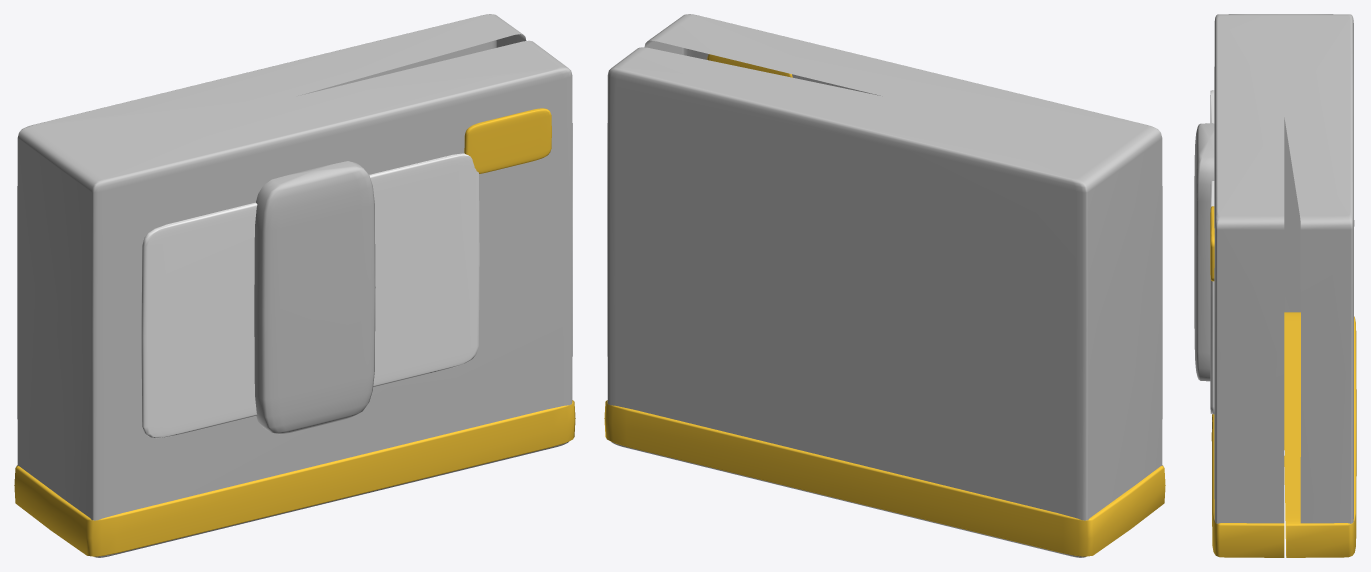
Rendered from console_box.fbx.
3 renders of one model, left to right at view 1: azimuth 30°, elevation 25°; view 2: azimuth 150°, elevation 25°; view 3: azimuth 270°, elevation 25°, orthographic. The views are drawn at different scales.
Parts seen in each view (by area): view 1: console_box; view 2: console_box; view 3: console_box.
Boxes of the visible parts, x1,y1,x2,y2 form: console_box: (14,14,575,557); console_box: (604,14,1165,557); console_box: (1194,14,1356,557).
Size of the model in its own units: 1.02 by 0.75 by 0.325.
